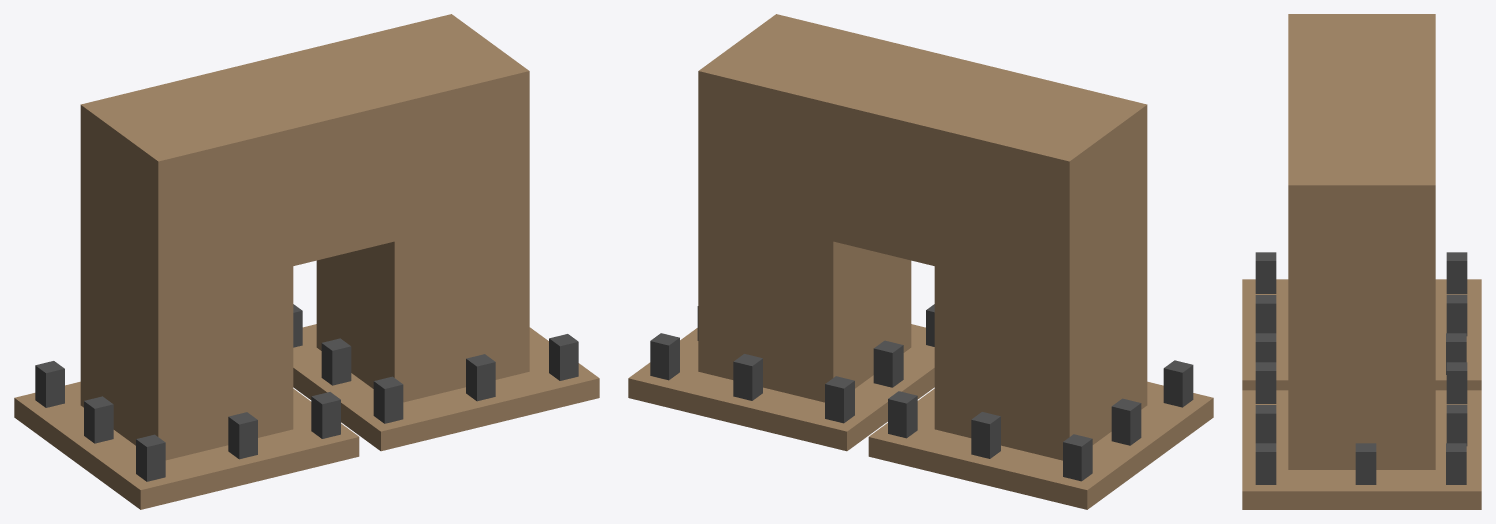
Rendered from LabTube.fbx.
The picture shows the model from 3 angles, left to right: view 1: azimuth 30°, elevation 25°; view 2: azimuth 150°, elevation 25°; view 3: azimuth 270°, elevation 25°; orthographic projection. The views are drawn at different scales.
Visible parts, largest first — view 1: pCube185, pCube181, pCube184, pCube192, pCube188, pCube194, pCube195, pCube198, pCube193, pCube199, pCube187, pCube200; view 2: pCube185, pCube181, pCube184, pCube195, pCube199, pCube192, pCube198, pCube190, pCube197, pCube201, pCube189, pCube186; view 3: pCube185, pCube184, pCube181, pCube187, pCube188, pCube189, pCube191, pCube198, pCube199, pCube186, pCube190, pCube197 (+4 smaller).
Boxes of the visible parts, bbox=[...] form: pCube185: bbox=[80, 14, 529, 460]; pCube181: bbox=[14, 381, 359, 509]; pCube184: bbox=[293, 324, 599, 451]; pCube192: bbox=[321, 338, 351, 385]; pCube188: bbox=[373, 376, 403, 423]; pCube194: bbox=[228, 412, 257, 459]; pCube195: bbox=[84, 396, 113, 443]; pCube198: bbox=[35, 361, 64, 407]; pCube193: bbox=[466, 354, 495, 401]; pCube199: bbox=[136, 434, 165, 481]; pCube187: bbox=[549, 334, 578, 380]; pCube200: bbox=[311, 392, 340, 438]; pCube185: bbox=[698, 14, 1147, 460]; pCube181: bbox=[868, 381, 1213, 509]; pCube184: bbox=[628, 324, 934, 451]; pCube195: bbox=[1111, 398, 1141, 445]; pCube199: bbox=[1163, 360, 1193, 407]; pCube192: bbox=[873, 340, 903, 387]; pCube198: bbox=[1063, 434, 1092, 481]; pCube190: bbox=[733, 354, 762, 400]; pCube197: bbox=[971, 412, 1000, 458]; pCube201: bbox=[888, 391, 917, 438]; pCube189: bbox=[825, 376, 854, 423]; pCube186: bbox=[650, 333, 679, 380]; pCube185: bbox=[1288, 14, 1435, 469]; pCube184: bbox=[1242, 390, 1481, 509]; pCube181: bbox=[1242, 279, 1481, 390]; pCube187: bbox=[1255, 443, 1276, 484]; pCube188: bbox=[1255, 362, 1276, 403]; pCube189: bbox=[1446, 362, 1467, 403]; pCube191: bbox=[1355, 443, 1376, 484]; pCube198: bbox=[1446, 252, 1467, 293]; pCube199: bbox=[1255, 252, 1276, 293]; pCube186: bbox=[1446, 443, 1466, 484]; pCube190: bbox=[1446, 404, 1467, 445]; pCube197: bbox=[1446, 294, 1467, 335].
Size of the model in its own units: 3.21 by 2.14 by 1.53.
